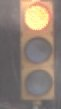Red: (14, 4, 60, 109)
